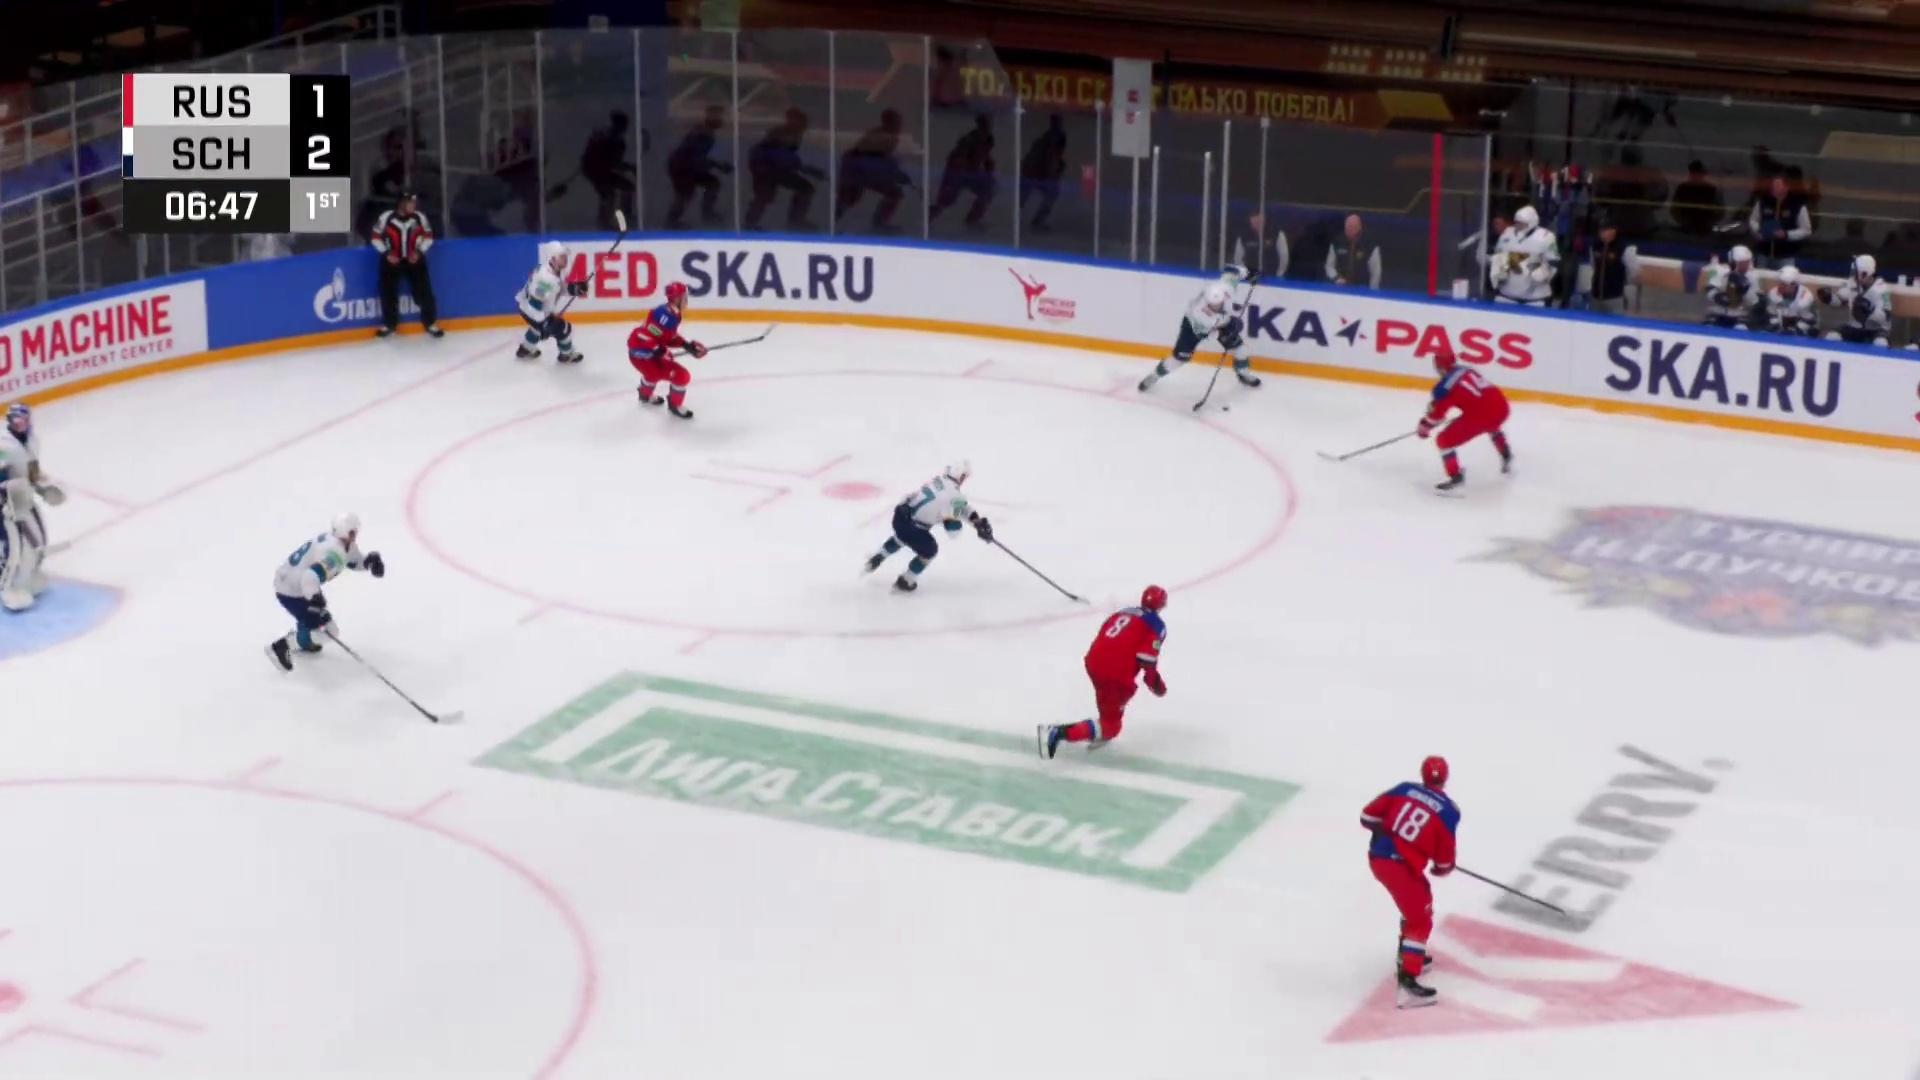ball: (1221, 406, 1230, 411)
